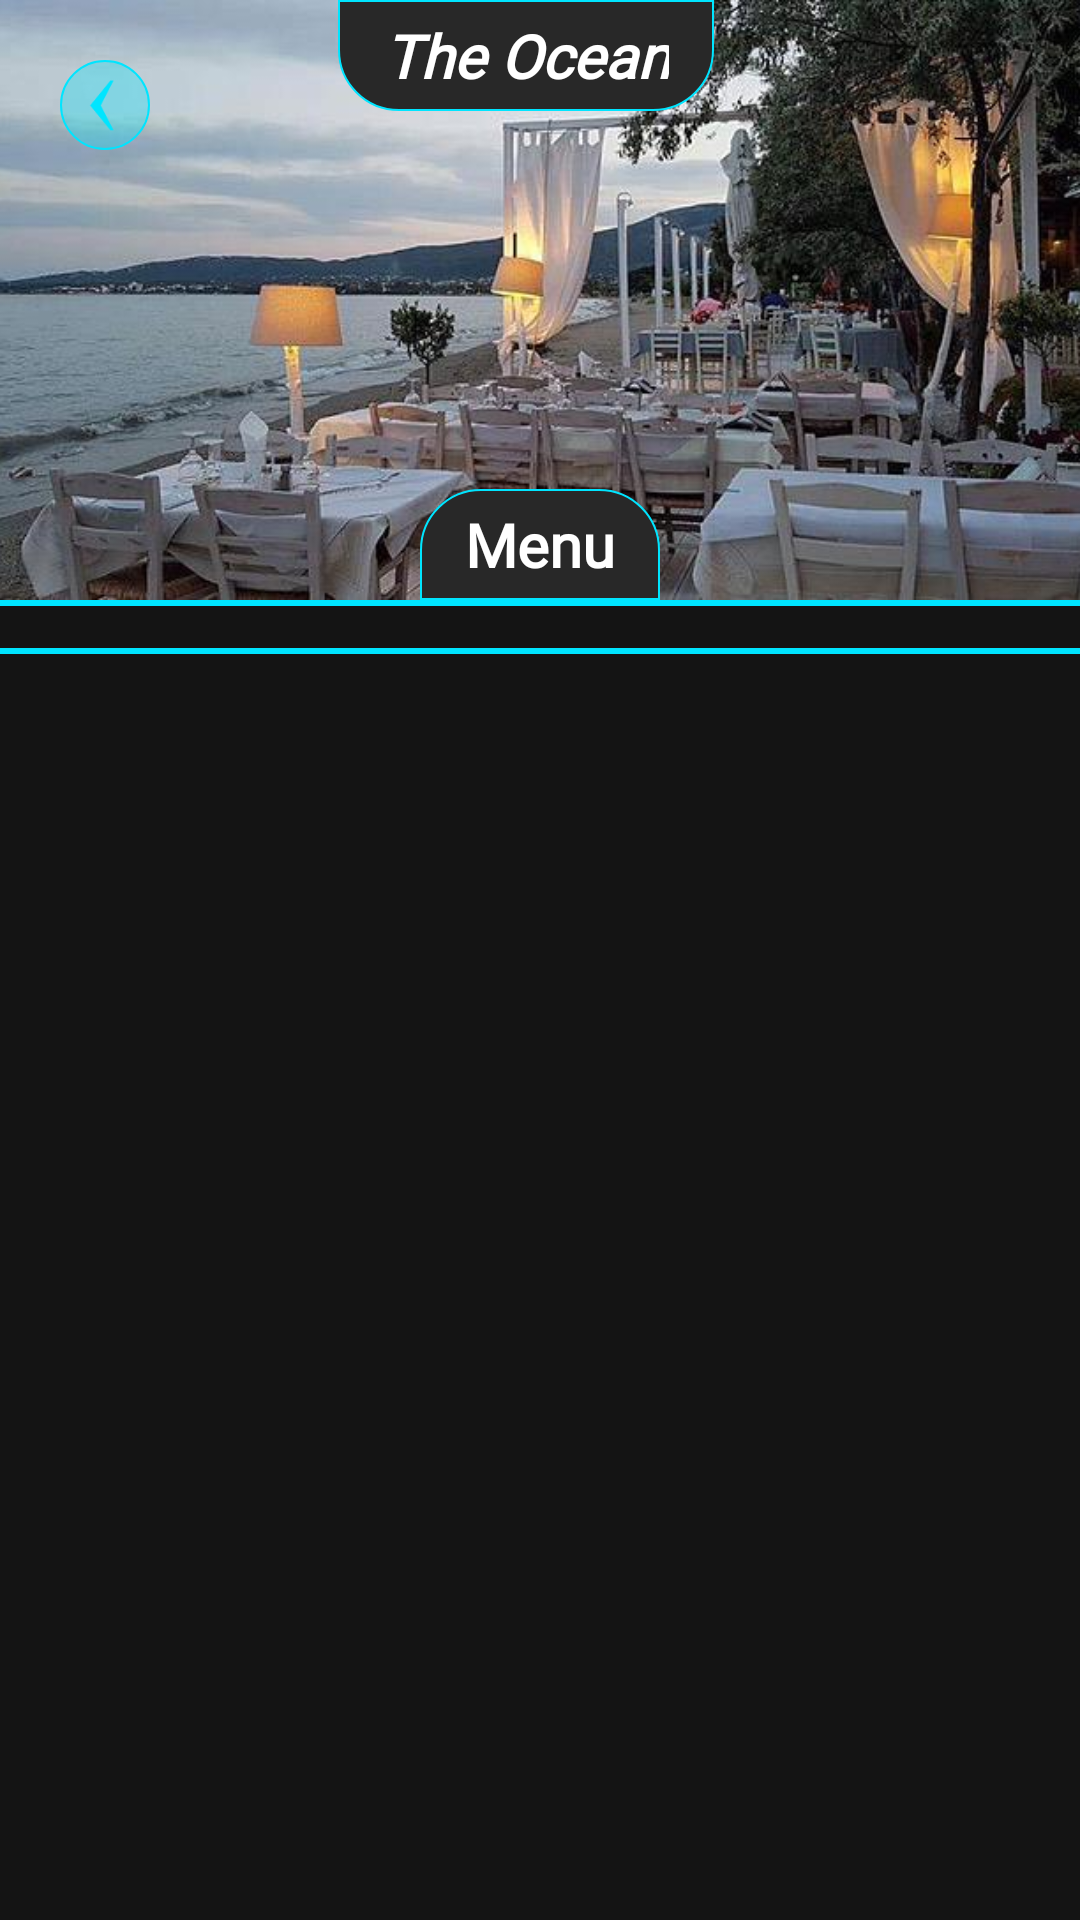

Where to tap for icons on this 1080*1920 app screen, as (x,y):
back: (102,105)
